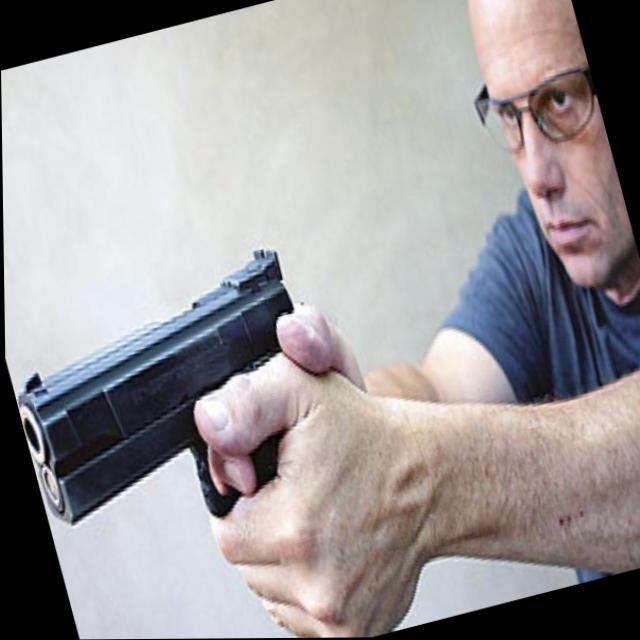weapon: (2, 239, 340, 558)
